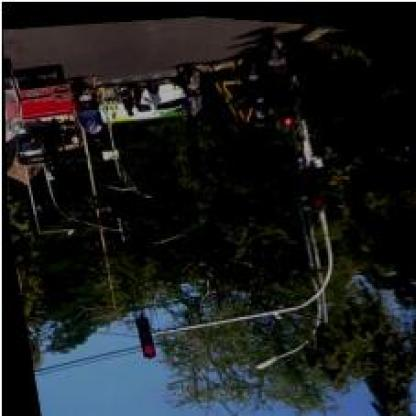red: (131, 314, 155, 358), (302, 162, 324, 206)
